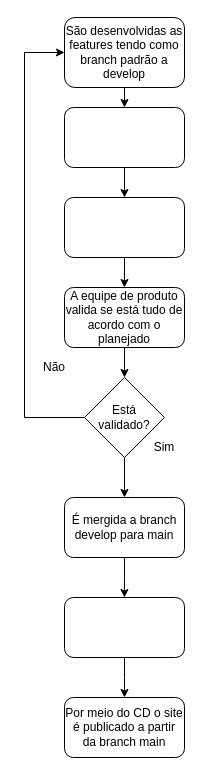
Some shapes in this 202 by 775 pixel diagram are drawn without their labels. Here are the shapes that lost their labels. From the top down, the centre of each, then its label:
At point (124, 137): "O código é testado por meio do CI".
At point (124, 227): "É publicado o site em ambiente de stagging privado, a partir da branch develop".
At point (124, 627): "É criada uma nova tag de release no github e seu changelog".
